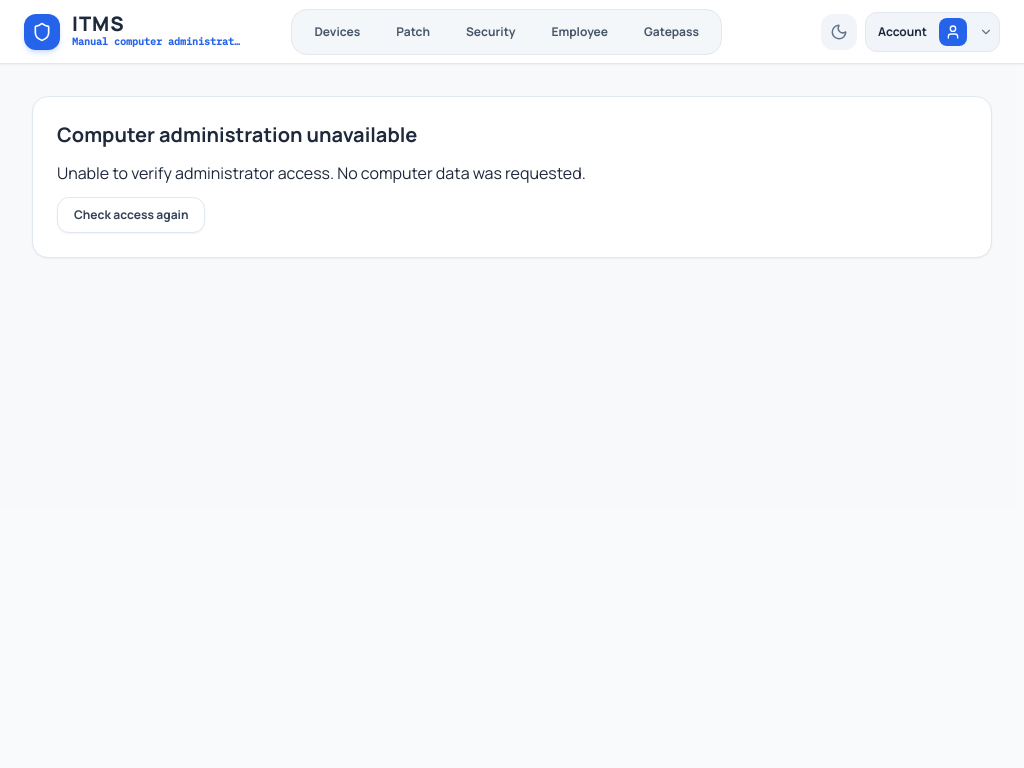
it: admin route authorization and account isolation › fails closed when auth/me returns network
This screenshot has width=1024, height=768.
Check: the message shows "Unable to verify administrator access", box [57,162,586,184]
Click the button "Check access again" at {"x": 131, "y": 215}, box [57,197,205,233]
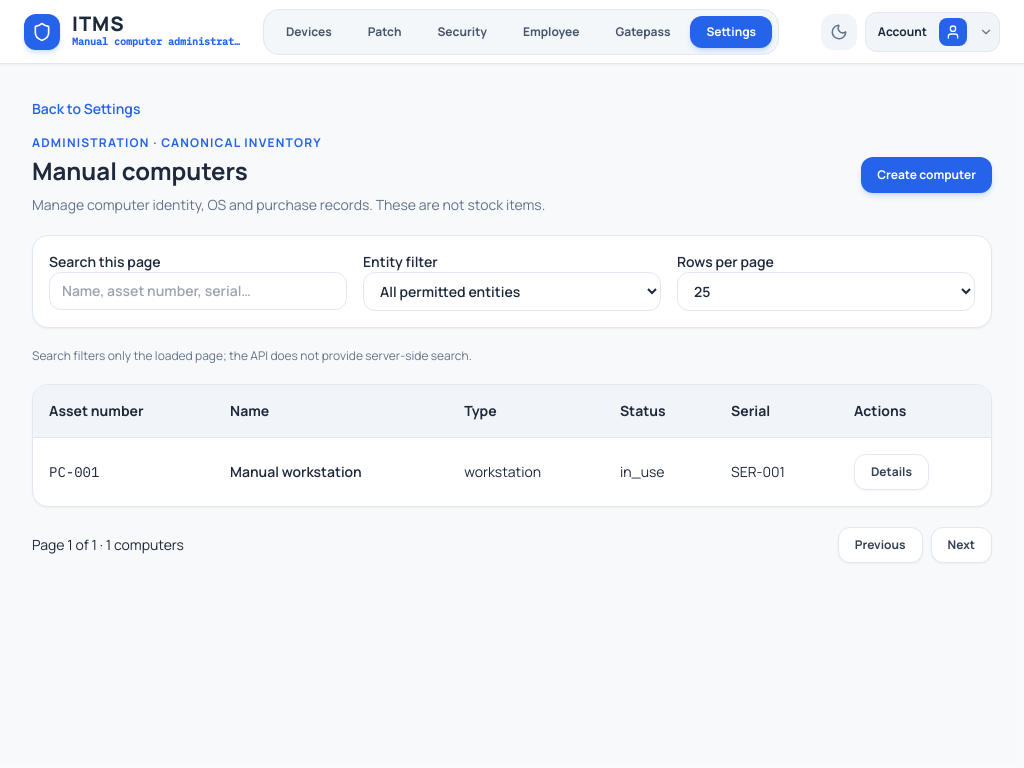
Check: the text "Manual workstation" is shown, box [214,438,448,506]
